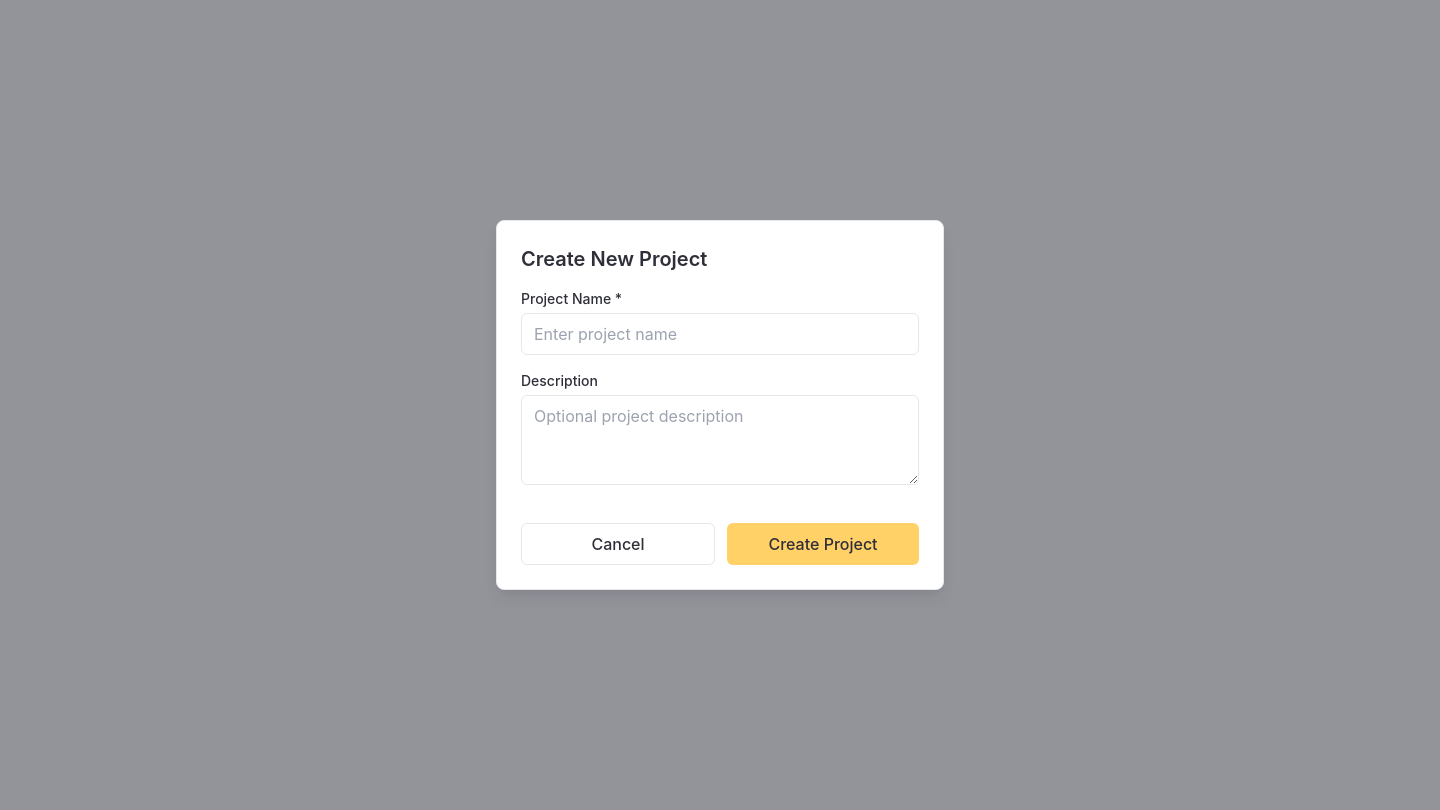
NewProjectModal › disables submit button while submitting
The width and height of the screenshot is (1440, 810).
Type "Test Project" into the field labelled "Project Name *".
click(720, 334); type("Test Project")  # box [521,313,919,355]
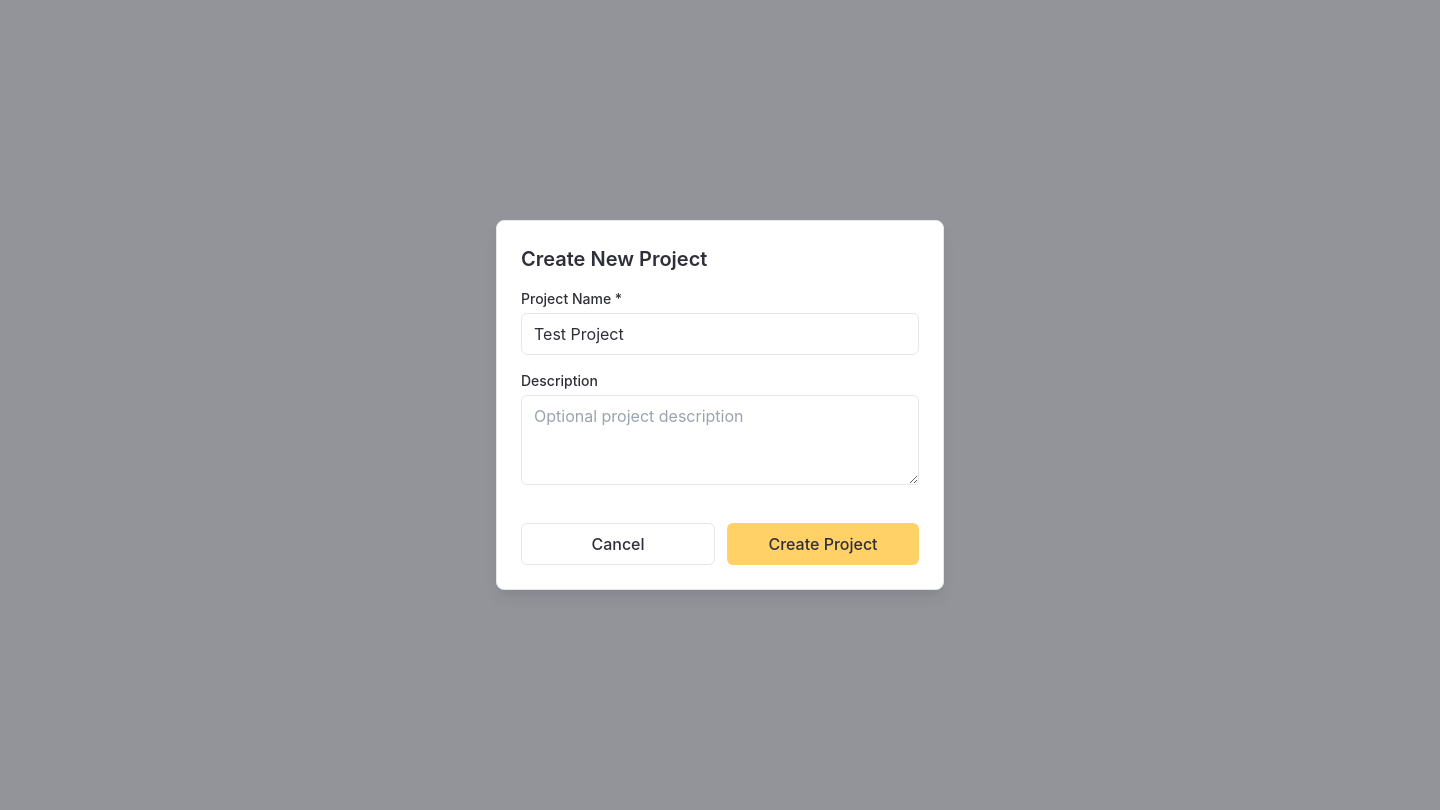
Click the button "Create Project".
click(823, 544)  # box [727,523,919,565]
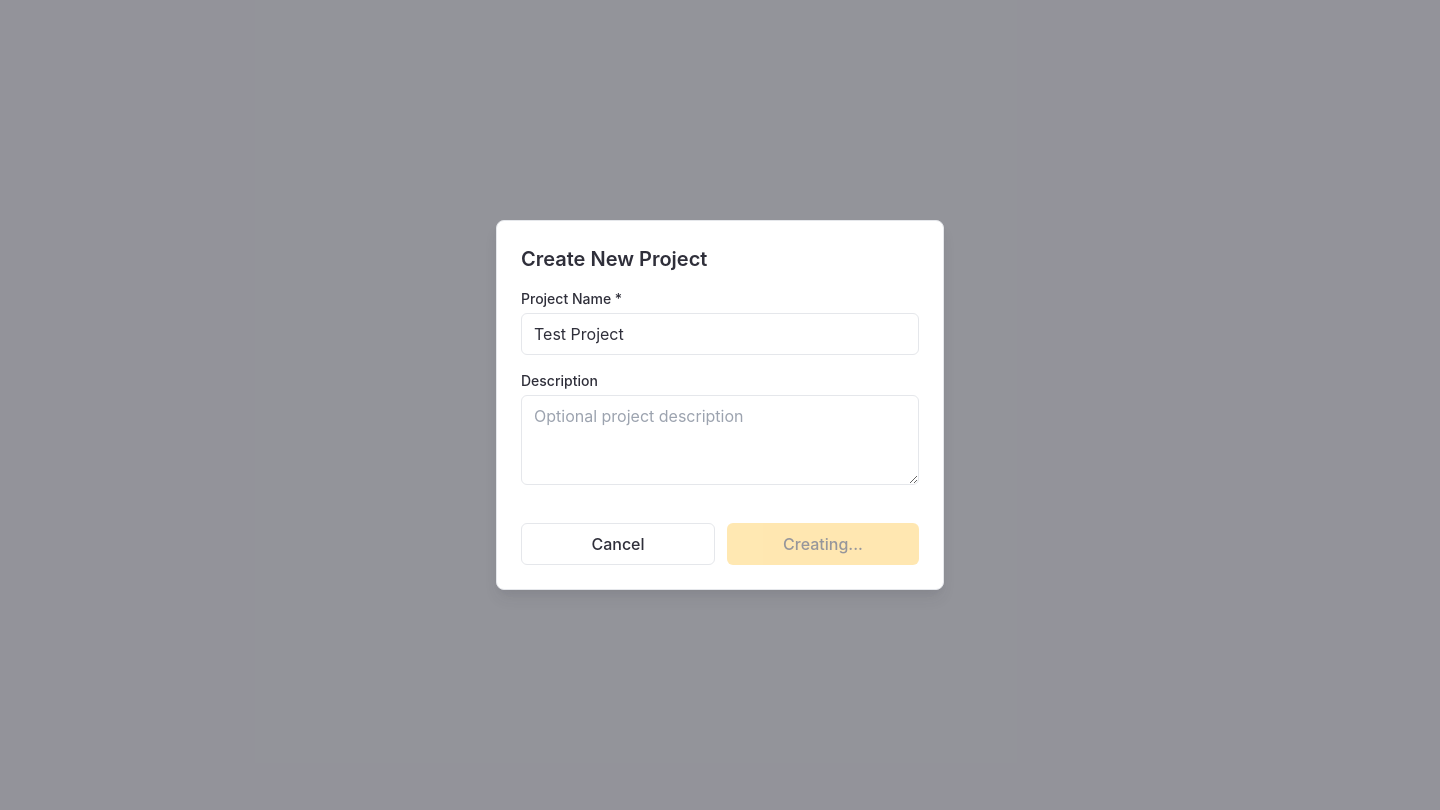
Check: the button "Creating..." is disabled, box [727,523,919,565]
